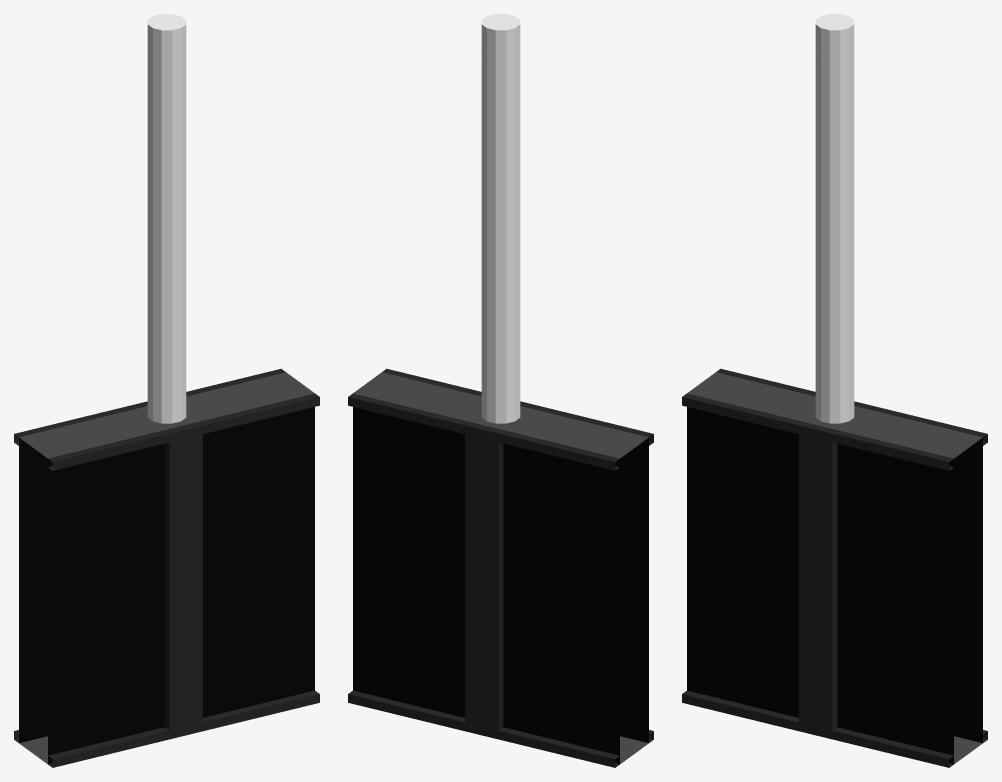
Rendered from beijing_sign_2.obj.
The picture shows the model from 3 angles, left to right: view 1: azimuth 30°, elevation 25°; view 2: azimuth 150°, elevation 25°; view 3: azimuth 330°, elevation 25°; orthographic projection.
Parts seen in each view (by area): view 1: main, pole, sideb, sidea; view 2: main, pole, sideb, sidea; view 3: main, pole, sidea, sideb.
Boxes of the visible parts, bbox=[...] form: main: bbox=[14, 368, 319, 767]; pole: bbox=[147, 14, 186, 423]; sideb: bbox=[131, 401, 186, 736]; sidea: bbox=[186, 425, 202, 735]; main: bbox=[348, 368, 653, 767]; pole: bbox=[481, 14, 520, 423]; sideb: bbox=[481, 401, 536, 737]; sidea: bbox=[465, 425, 481, 735]; main: bbox=[682, 368, 987, 767]; pole: bbox=[815, 14, 854, 423]; sidea: bbox=[815, 401, 870, 736]; sideb: bbox=[799, 425, 815, 735].
Bounding box in the file's own units: 0.5 × 1.25 × 0.125.
